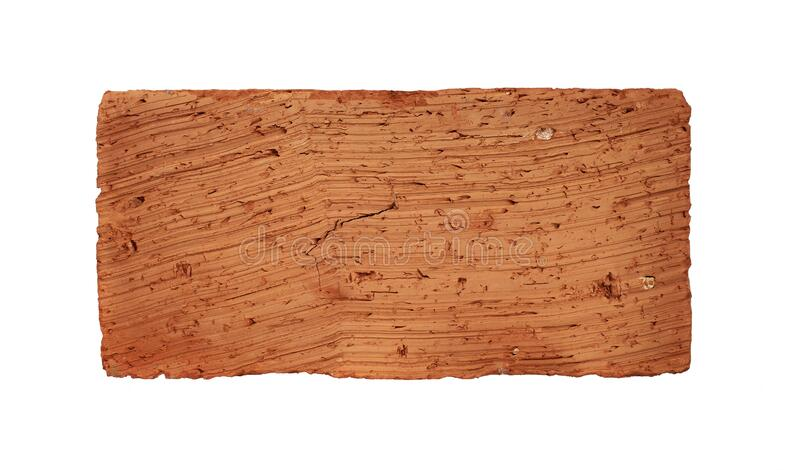brick: (101, 89, 692, 373)
